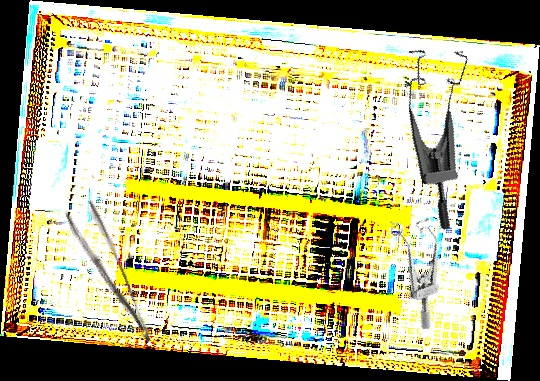Dressing Forceps: (63, 198, 155, 354)
Speculum: (377, 33, 522, 231), (380, 206, 468, 332)
